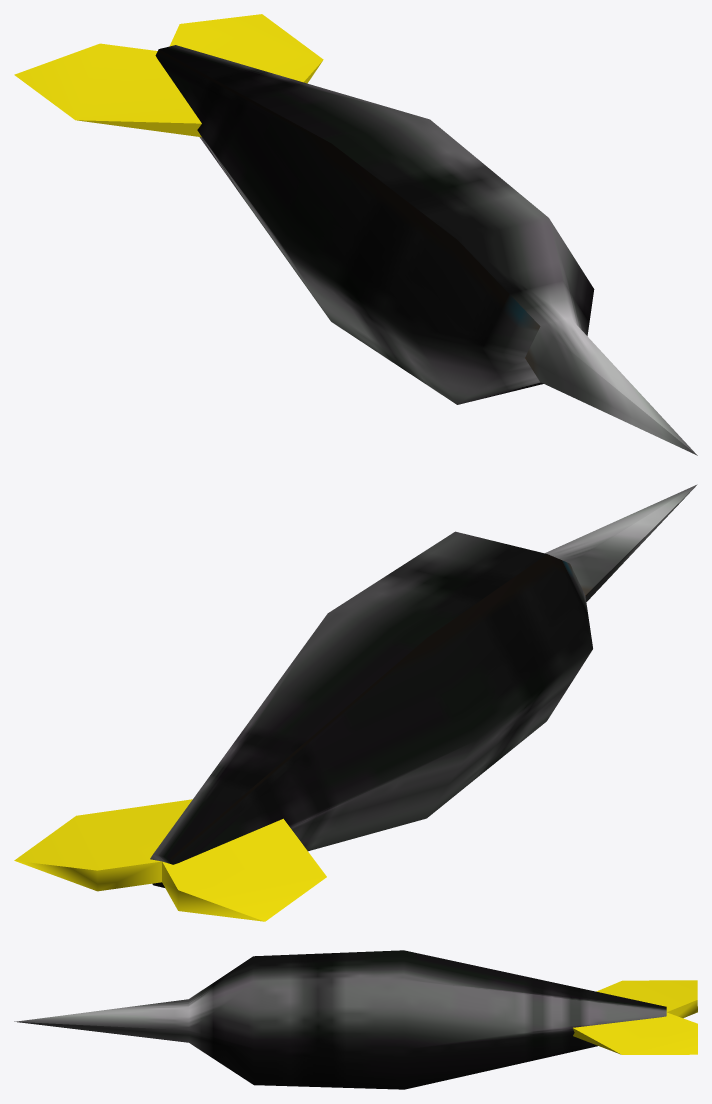
File: dart.fbx
The picture shows the model from 3 angles, top to bottom: view 1: azimuth 30°, elevation 25°; view 2: azimuth 150°, elevation 25°; view 3: azimuth 270°, elevation 25°; orthographic projection. The views are drawn at different scales.
Visible parts, largest first — view 1: Dart; view 2: Dart; view 3: Dart.
Boxes of the visible parts, x1=… form: Dart: x1=14, y1=14, x2=697, y2=455; Dart: x1=14, y1=484, x2=697, y2=921; Dart: x1=14, y1=950, x2=697, y2=1089.
Size of the model in its own units: 243 by 167 by 943.
1 material, 1 textured.
